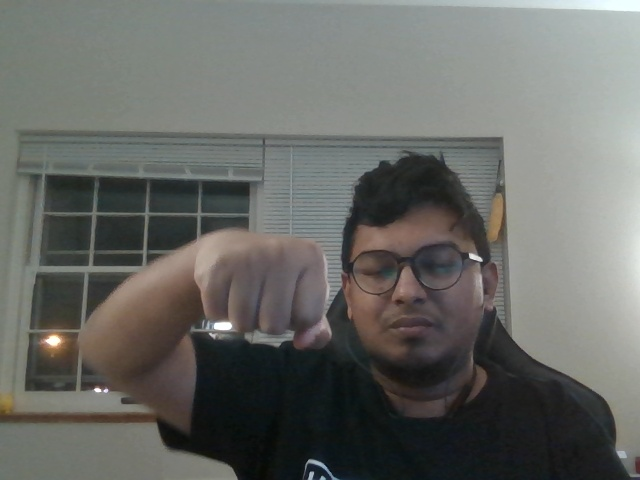yes: (151, 210, 347, 369)
